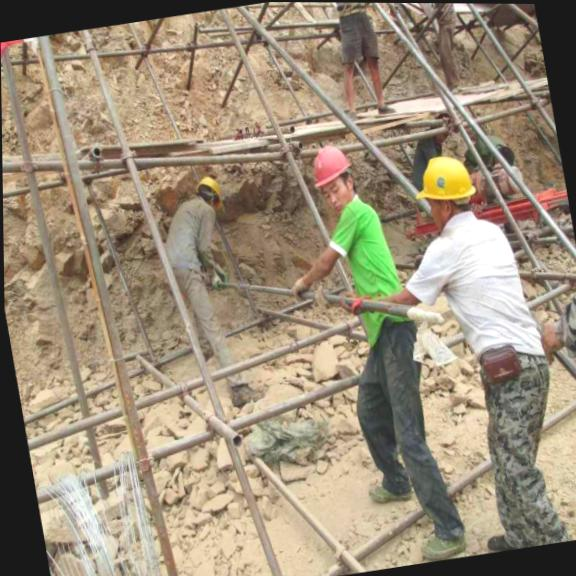no_safety_vest: (433, 219, 533, 374), (334, 215, 400, 351), (156, 191, 223, 280)
